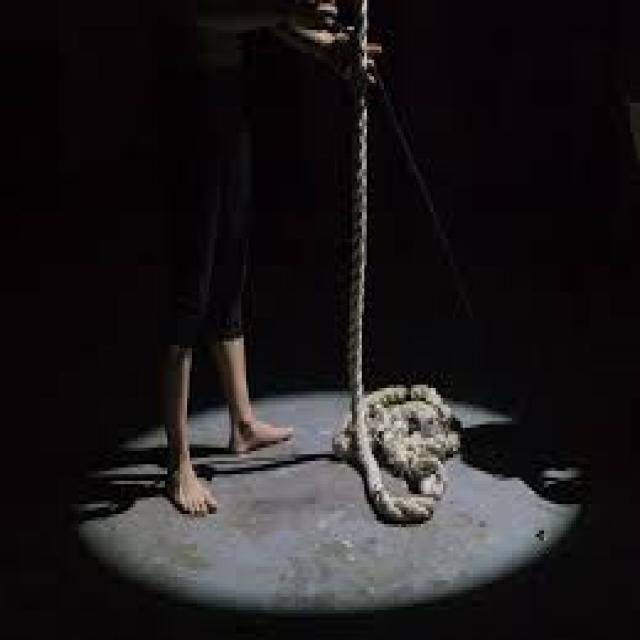No_Shoe: (168, 461, 218, 518), (240, 416, 292, 450)
